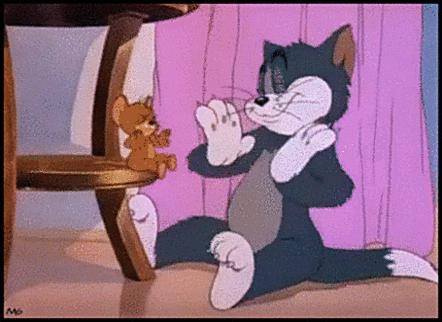jerry: (110, 93, 181, 179)
